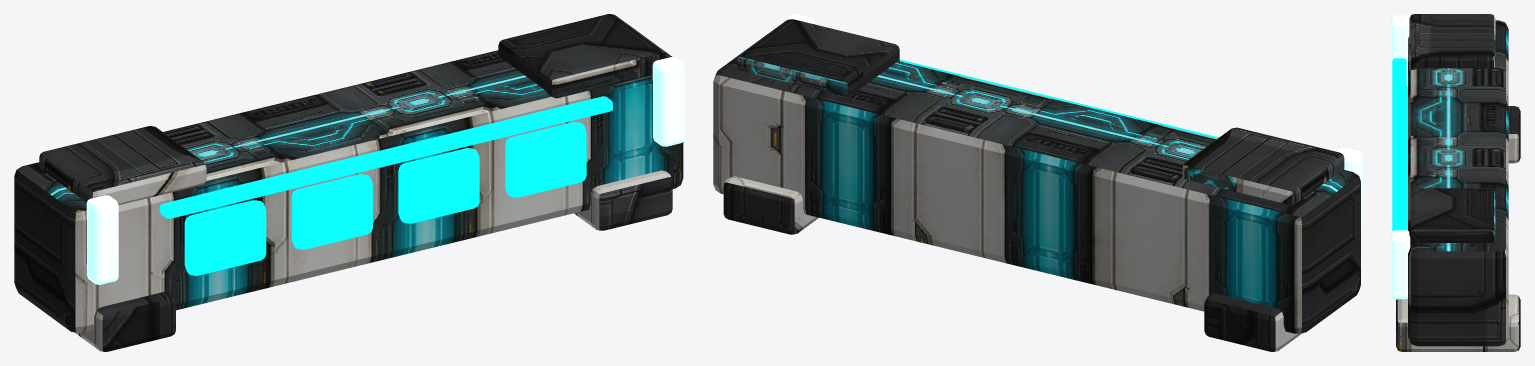
Rendered from DepartureCapacitorModel.fbx.
3 views of the same model, side by side, from view 1: azimuth 30°, elevation 25°; view 2: azimuth 150°, elevation 25°; view 3: azimuth 270°, elevation 25° (orthographic). The views are drawn at different scales.
Parts seen in each view (by area): view 1: Departure Capacitor Armor, Departure Capacitor Cells, Departure Threshold Beacons; view 2: Departure Capacitor Armor, Departure Capacitor Cells, Departure Threshold Beacons; view 3: Departure Capacitor Armor, Departure Capacitor Cells, Departure Threshold Beacons.
Part boxes in pixels (x1,y1,x2,y2): Departure Capacitor Armor: [14, 14, 683, 351]; Departure Capacitor Cells: [159, 96, 612, 275]; Departure Threshold Beacons: [86, 57, 684, 284]; Departure Capacitor Armor: [713, 19, 1360, 351]; Departure Capacitor Cells: [899, 59, 1218, 138]; Departure Threshold Beacons: [784, 14, 1362, 227]; Departure Capacitor Armor: [1396, 14, 1520, 351]; Departure Capacitor Cells: [1392, 58, 1407, 231]; Departure Threshold Beacons: [1391, 15, 1410, 299].
Bounding box in the file's own units: 4.6 × 1.14 × 1.08.
Materials: 3 (1 with a texture image).
